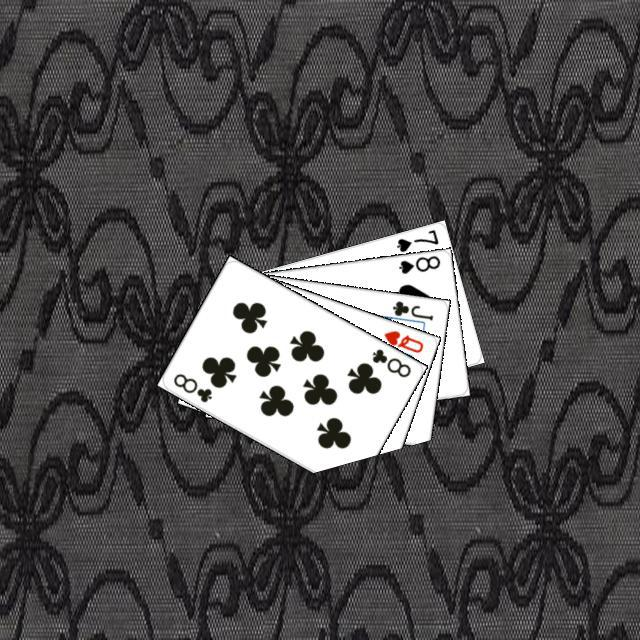7s: (391, 225, 440, 254)
8c: (168, 368, 214, 404), (367, 344, 413, 379)
8s: (394, 251, 442, 275)
Jc: (388, 296, 435, 322)
Qh: (379, 325, 425, 355)
